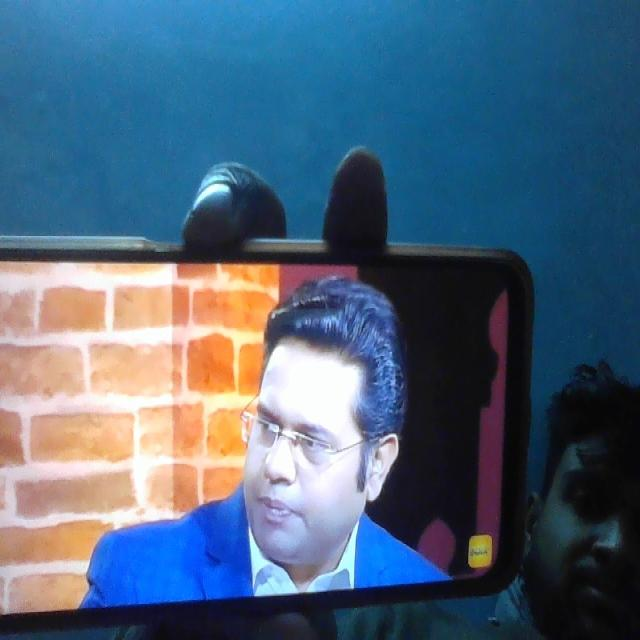fake: (239, 284, 393, 576)
